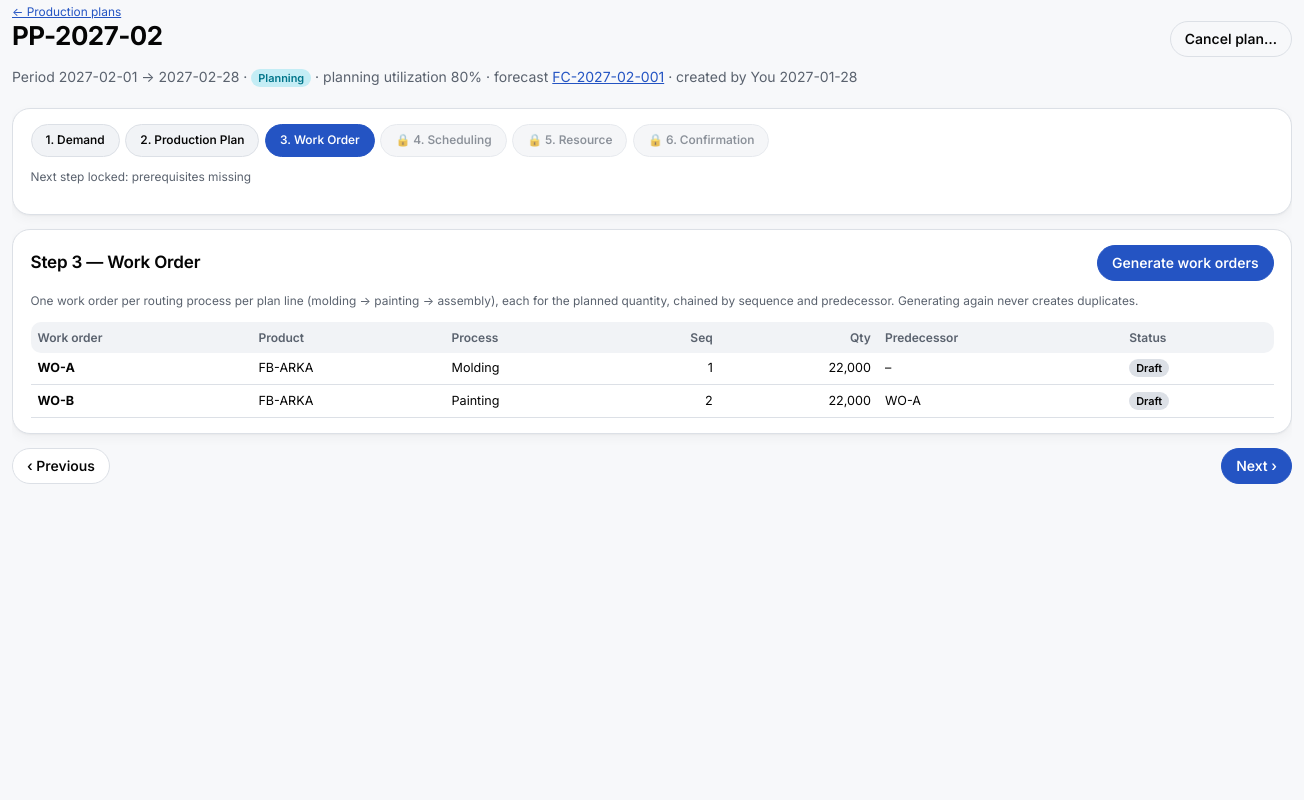
step 3: generate reports created versus already existing work orders
Expected: the heading "Step 3 — Work Order" is shown, [30,250,200,276]
Expected: the text "WO-A" is shown 2 times, [38,360,75,375]; [878,385,1122,417]
Click the button "Generate work orders" at (1185, 263), box [1097,245,1274,281]
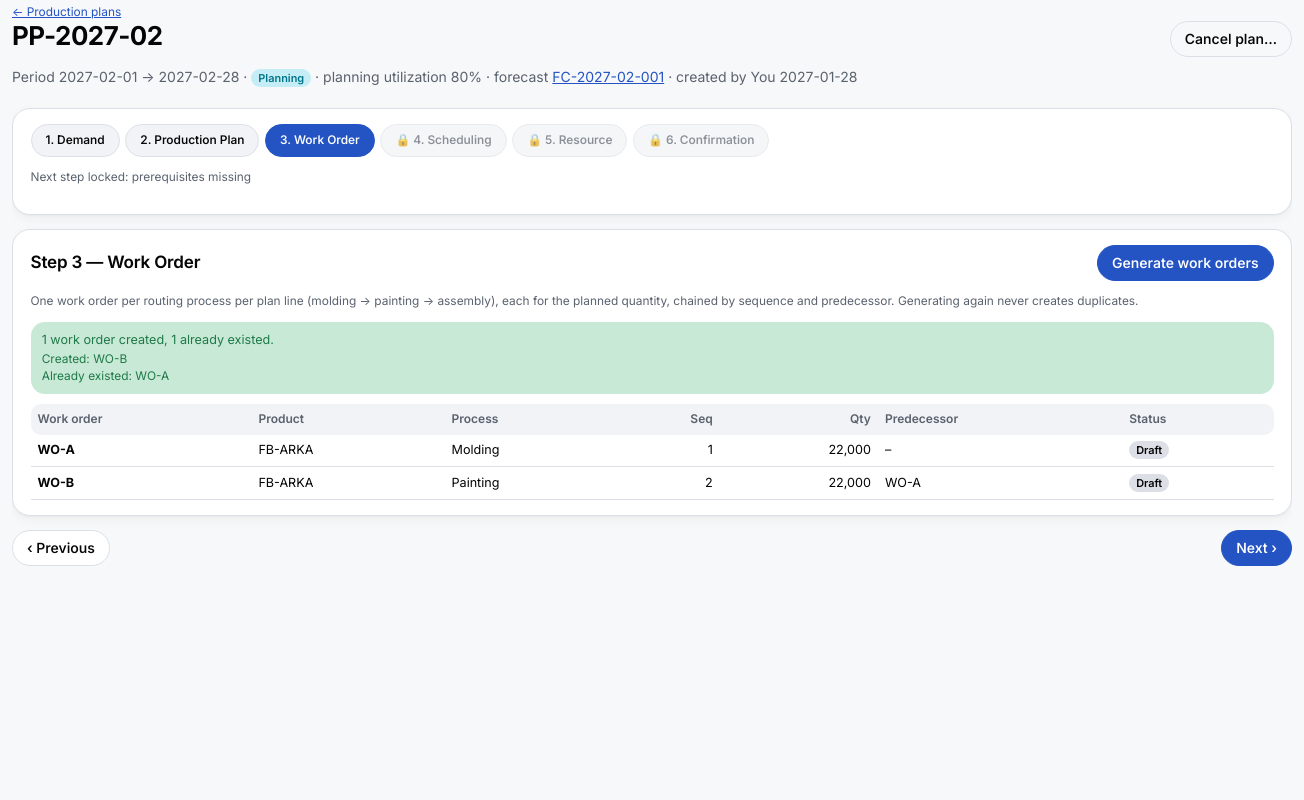
Now the text "1 work order created, 1 already existed." is shown, box [30,322,1274,394]
Now the text "Already existed: WO-A" is shown, box [42,368,169,383]
